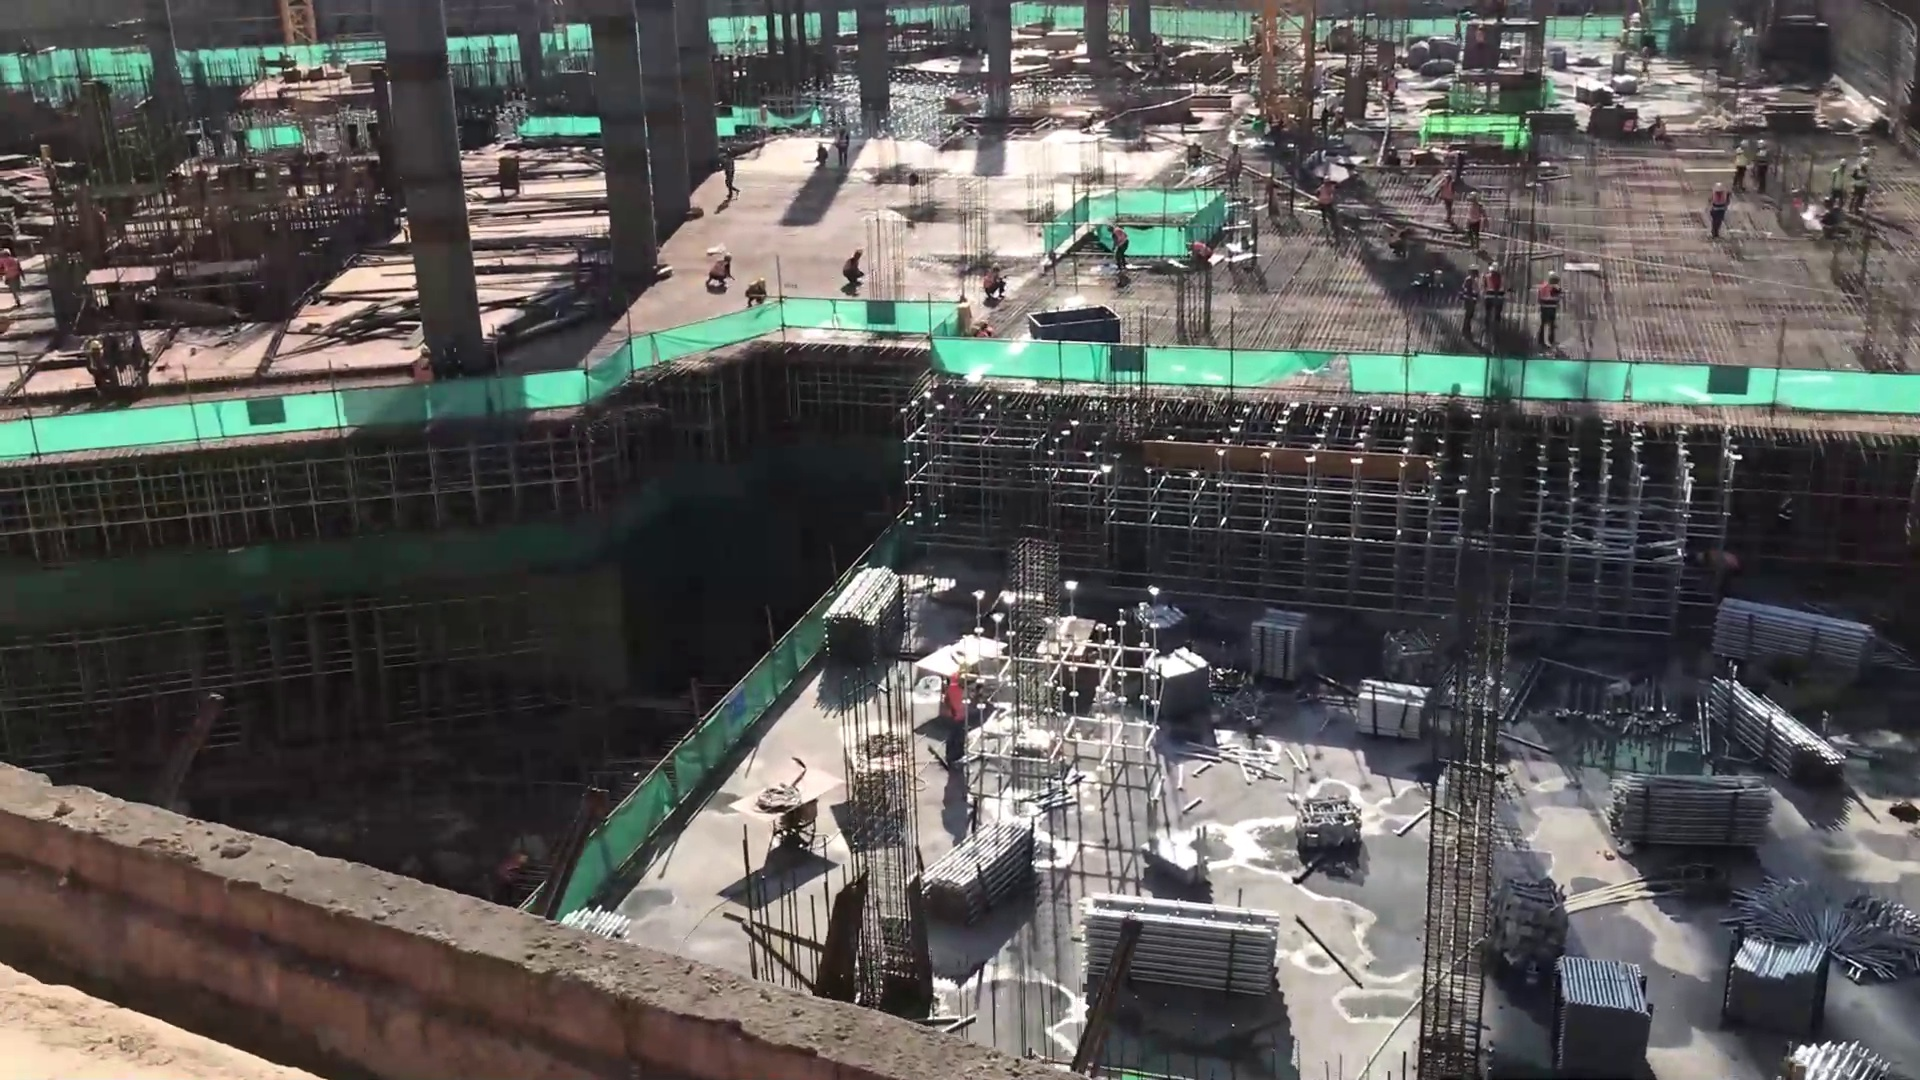helmet: (953, 662, 980, 696), (1856, 153, 1875, 172), (1709, 178, 1728, 197), (1833, 158, 1852, 176), (1737, 135, 1752, 152), (1543, 270, 1563, 283), (1754, 135, 1769, 152), (1486, 264, 1501, 277), (1466, 261, 1480, 275)
person: (937, 659, 979, 778), (1531, 270, 1571, 355), (1454, 258, 1488, 335), (1461, 183, 1493, 258), (1103, 218, 1136, 283), (1481, 257, 1508, 332), (836, 240, 872, 298), (1314, 169, 1343, 239), (702, 246, 737, 299), (1846, 149, 1875, 214), (1437, 165, 1465, 228), (977, 258, 1015, 301), (1825, 156, 1851, 214), (1731, 134, 1754, 199), (1703, 181, 1728, 237), (1179, 236, 1214, 273), (1752, 136, 1771, 198), (741, 274, 772, 310)
vest: (940, 679, 972, 723), (1481, 275, 1505, 308), (1848, 169, 1873, 198), (1539, 285, 1560, 318), (1828, 169, 1848, 199), (1458, 274, 1476, 307), (1438, 177, 1456, 204), (1751, 149, 1770, 175), (1464, 204, 1484, 228), (1318, 181, 1336, 206), (1191, 242, 1213, 263), (1708, 195, 1728, 218), (1734, 147, 1750, 172), (1113, 227, 1128, 250)
